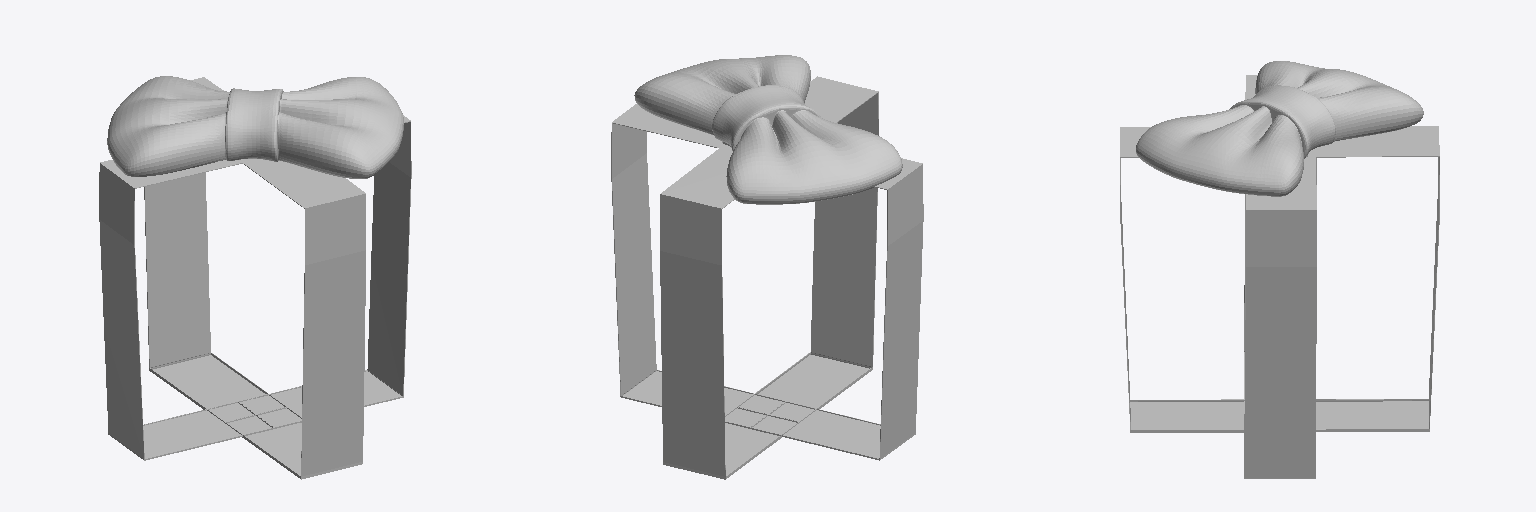
Rendered from gift.obj.
The picture shows the model from 3 angles: view 1: azimuth 30°, elevation 25°; view 2: azimuth 150°, elevation 25°; view 3: azimuth 270°, elevation 25°; orthographic projection.
Parts seen in each view (by area): view 1: Cube.001_Cube.002, Cube_Cube.001, Bow__19331_Bow_v1.001; view 2: Cube.001_Cube.002, Cube_Cube.001, Bow__19331_Bow_v1.001; view 3: Cube_Cube.001, Bow__19331_Bow_v1.001, Cube.001_Cube.002.
Part boxes in pixels (bbox=[...]): Cube.001_Cube.002: bbox=[144, 77, 365, 479]; Cube_Cube.001: bbox=[99, 115, 411, 460]; Bow__19331_Bow_v1.001: bbox=[107, 76, 403, 178]; Cube.001_Cube.002: bbox=[660, 76, 878, 479]; Cube_Cube.001: bbox=[611, 104, 923, 460]; Bow__19331_Bow_v1.001: bbox=[634, 55, 902, 204]; Cube_Cube.001: bbox=[1244, 75, 1316, 478]; Bow__19331_Bow_v1.001: bbox=[1136, 61, 1423, 196]; Cube.001_Cube.002: bbox=[1120, 126, 1439, 432].
Bounding box in the file's own units: 2.14 × 2.38 × 2.14.